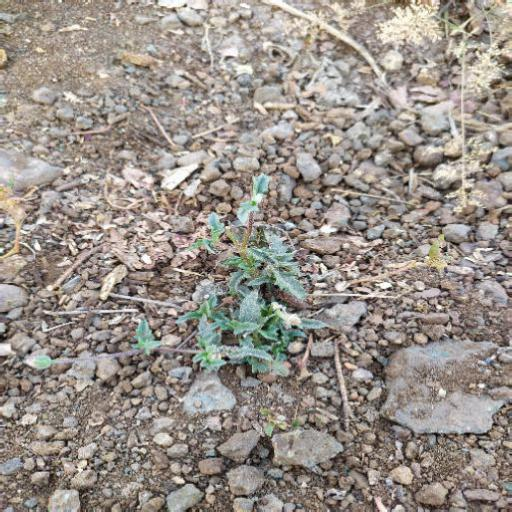weed: (126, 164, 327, 418)
